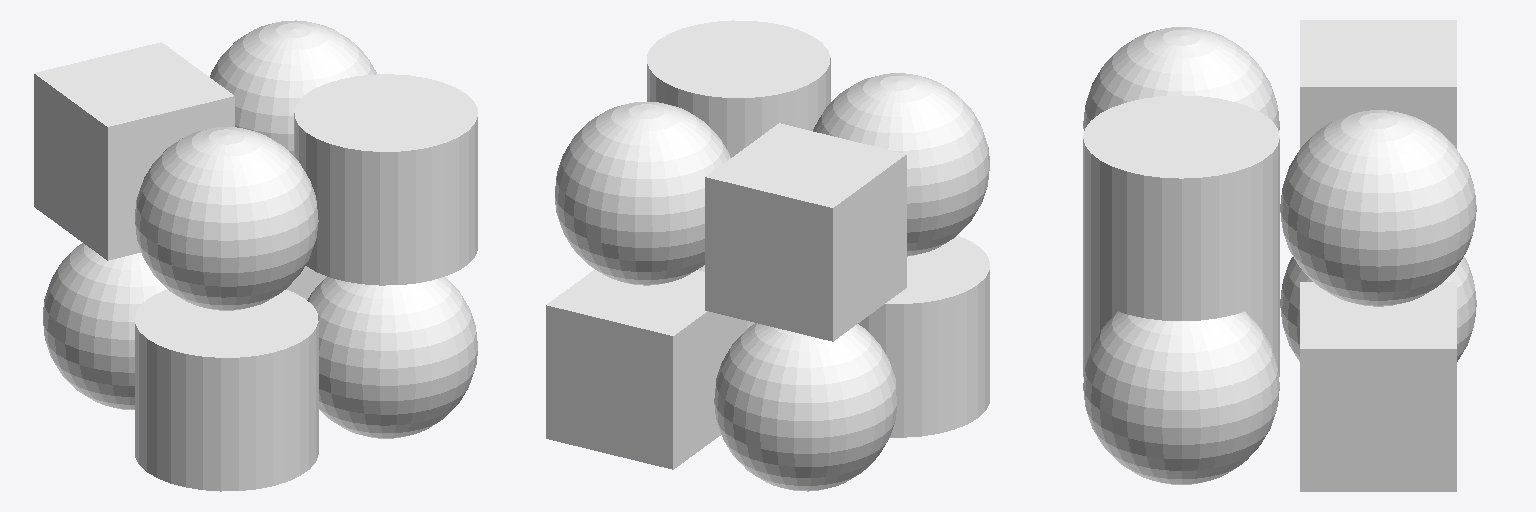
URDF robot description (shapes):
<?xml version="1.0"?>
<robot name="shapes">
  <material name="white">
    <color rgba="1.0 1.0 1.0 1.0"/>
  </material>

  <link name="base_link">
    <visual>
      <geometry>
        <cylinder length="0.8" radius="0.5"/>
      </geometry>
      <origin rpy="0 0 0" xyz="-0.5 -0.5 0.5"/>
      <material name="white"/>
    </visual>

    <visual>
      <geometry>
        <sphere radius="0.5"/>
      </geometry>
      <origin rpy="0 0 0" xyz="0.5 -0.5 0.5"/>
      <material name="white"/>
    </visual>

    <visual>
      <geometry>
        <box size="0.8 0.8 0.8"/>
      </geometry>
      <origin rpy="0 0 0" xyz="0.5 0.5 0.5"/>
      <material name="white"/>
    </visual>

    <visual>
      <geometry>
        <sphere radius="0.5"/>
      </geometry>
      <origin rpy="0 0 0" xyz="-0.5 0.5 0.5"/>
      <material name="white"/>
    </visual>

    <visual>
      <geometry>
        <sphere radius="0.5"/>
      </geometry>
      <origin rpy="0 0 0" xyz="-0.5 -0.5 1.5"/>
      <material name="white"/>
    </visual>

    <visual>
      <geometry>
        <cylinder length="0.8" radius="0.5"/>
      </geometry>
      <origin rpy="0 0 0" xyz="0.5 -0.5 1.5"/>
      <material name="white"/>
    </visual>

    <visual>
      <geometry>
        <sphere radius="0.5"/>
      </geometry>
      <origin rpy="0 0 0" xyz="0.5 0.5 1.5"/>
      <material name="white"/>
    </visual>

    <visual>
      <geometry>
        <box size="0.8 0.8 0.8"/>
      </geometry>
      <origin rpy="0 0 0" xyz="-0.5 0.5 1.5"/>
      <material name="white"/>
    </visual>
  </link>
</robot>


    

      

--- Render facts (derived) ---
The picture shows the robot from 3 angles, left to right: view 1: azimuth 30°, elevation 25°; view 2: azimuth 150°, elevation 25°; view 3: azimuth 270°, elevation 25°; orthographic projection.
Robot: shapes — 1 links, 0 joints (none); root link base_link; default pose: all joints at 0.
Visible links, largest first — view 1: base_link; view 2: base_link; view 3: base_link.
Link boxes in pixels (left/top/right/bottom): base_link: left=34, top=20, right=477, bottom=491; base_link: left=546, top=20, right=989, bottom=491; base_link: left=1083, top=20, right=1476, bottom=491.
Bounding box of the posed robot: 2 × 2 × 2 m (x, y, z).
Geometry: primitives only (box / cylinder / sphere), no mesh files.